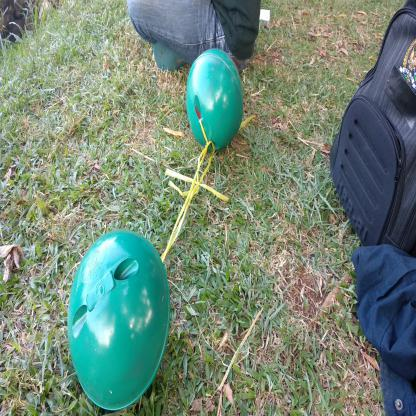green_buoy: (69, 231, 172, 411), (185, 49, 243, 158)
